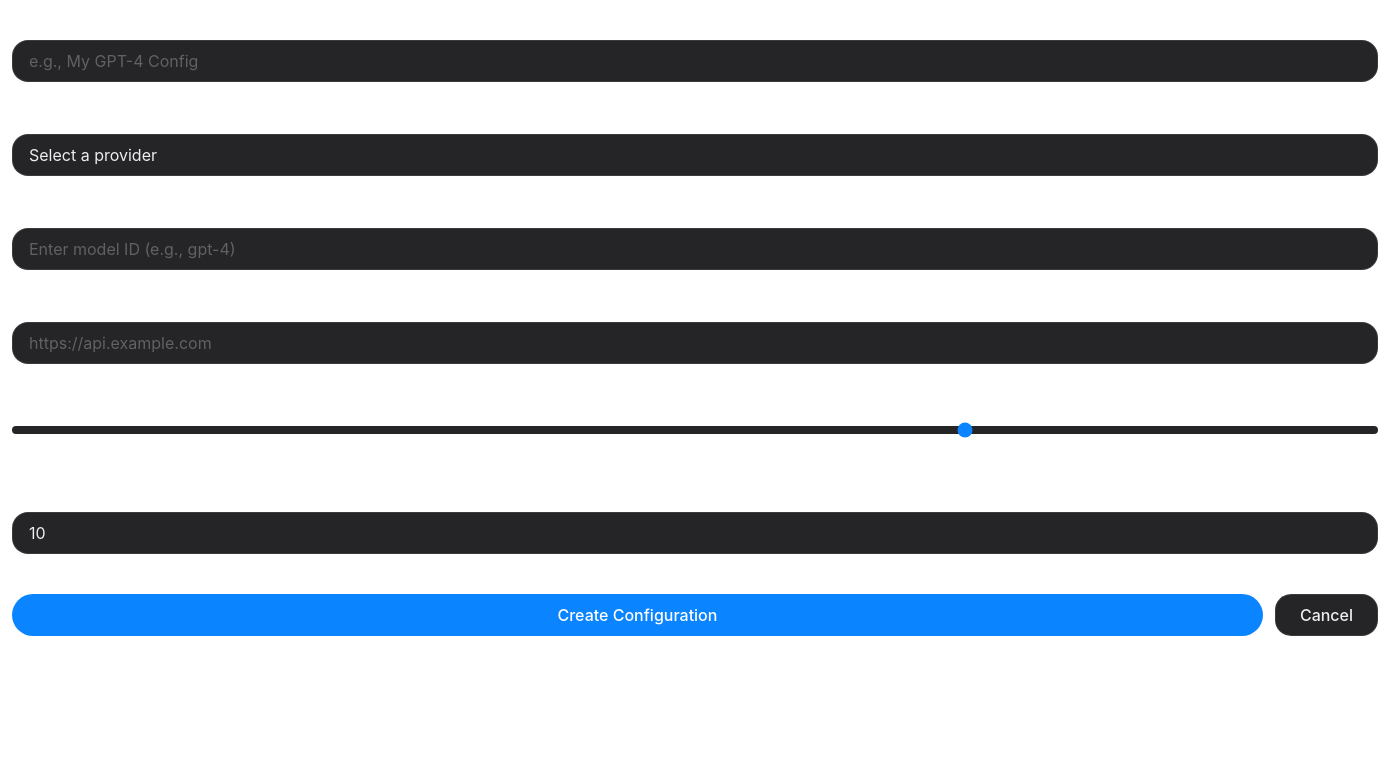
Test: ConfigForm › Validation display › should show validation error for missing model
This screenshot has width=1390, height=780.
Type "Test Config" into the field labelled "Configuration Name" at (695, 61), box [12,40,1378,82]
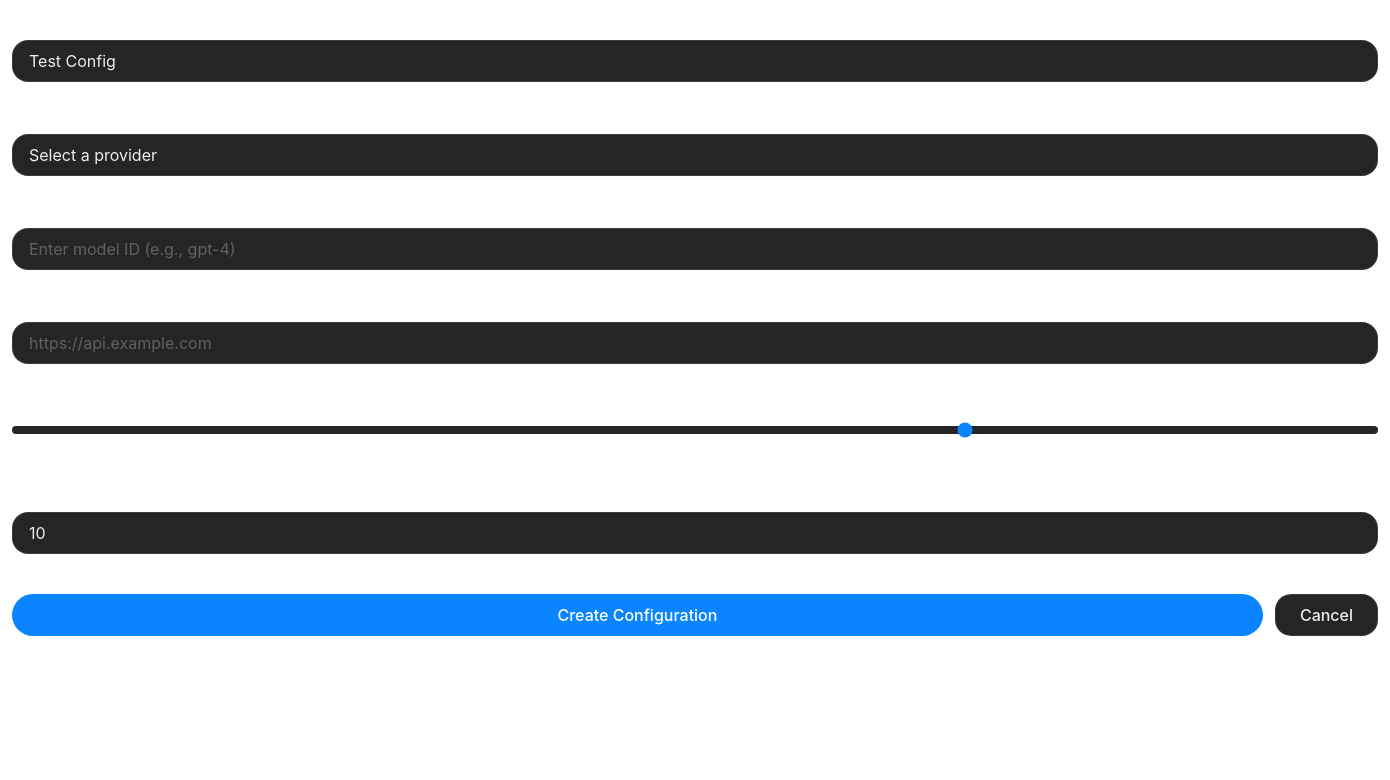
Select "OpenAI" in the dropdown labelled "Provider" at (695, 155), box [12,134,1378,176]
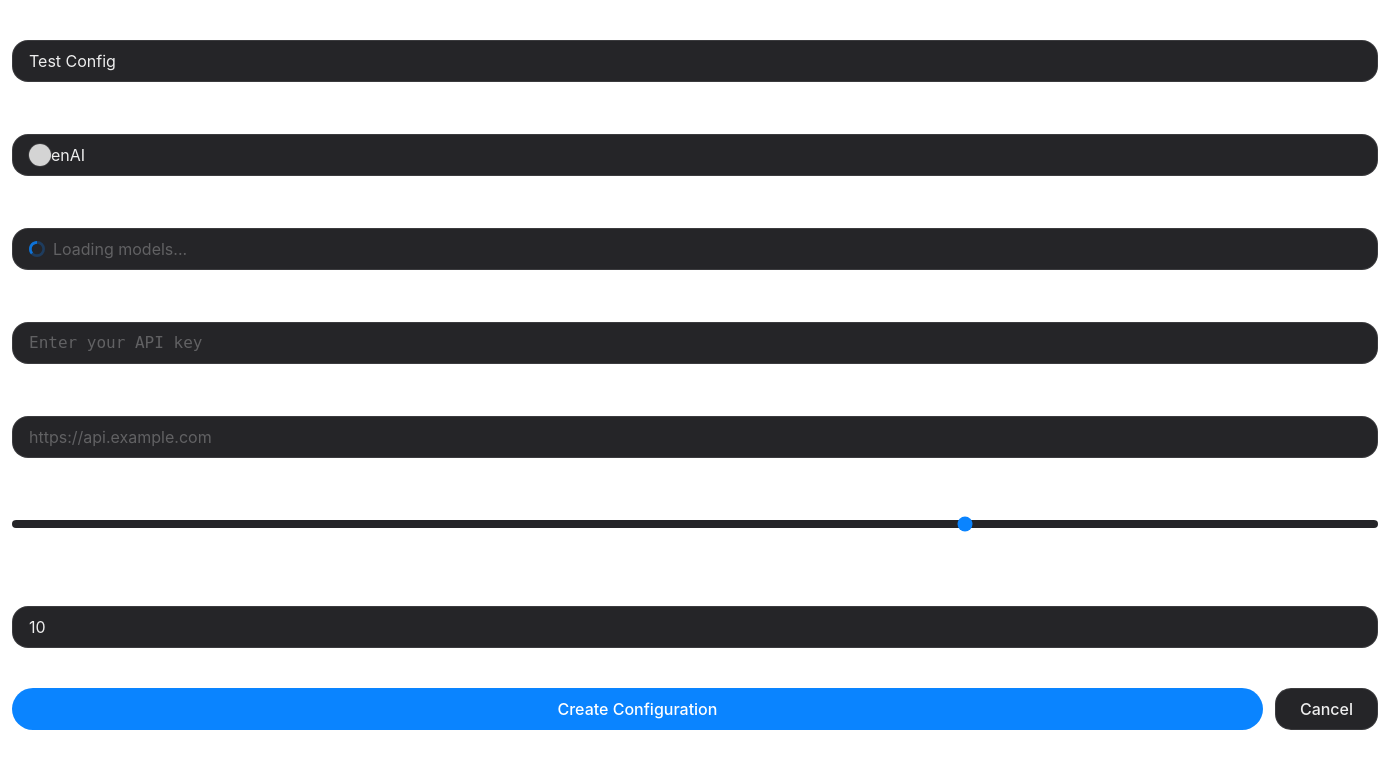
Click the button "Create Configuration" at (637, 709), box [12,688,1263,730]
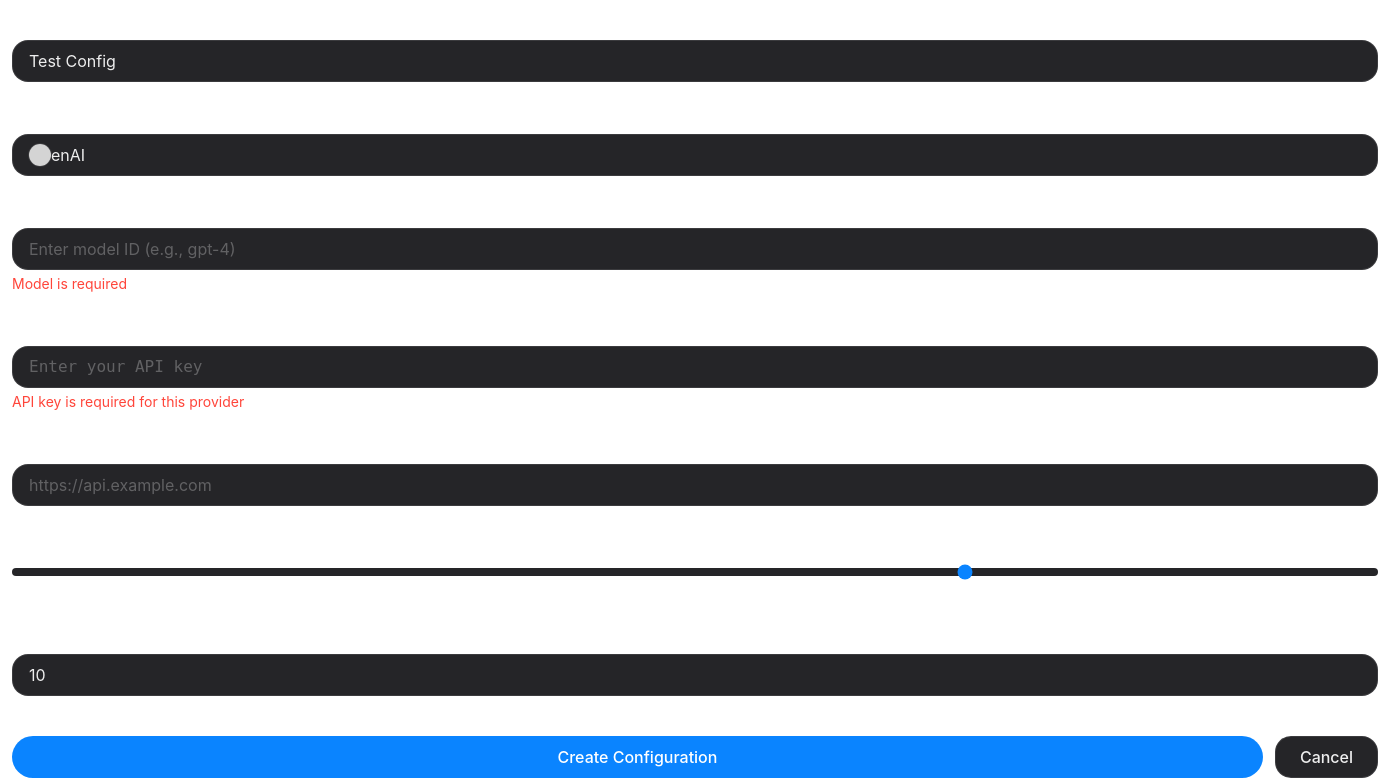
Now the text "Model is required" is shown, box [12,275,127,292]
